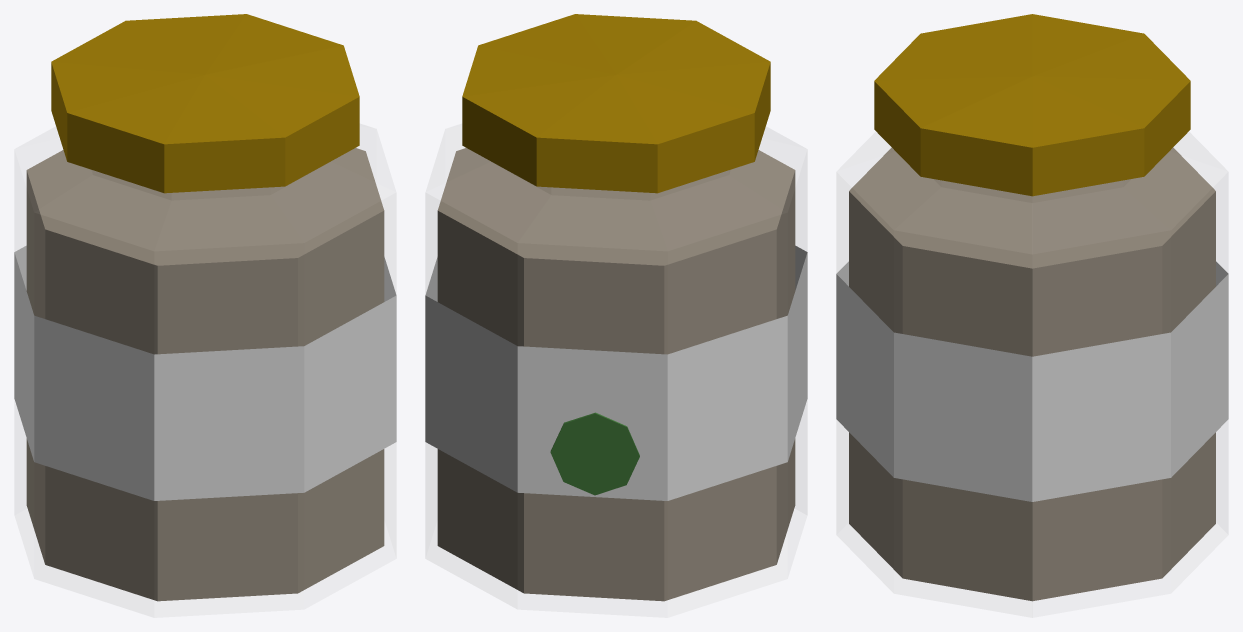
File: Quinoa.fbx
The picture shows the model from 3 angles, left to right: view 1: azimuth 30°, elevation 25°; view 2: azimuth 150°, elevation 25°; view 3: azimuth 270°, elevation 25°; orthographic projection.
Parts seen in each view (by area): view 1: pCylinder9; view 2: pCylinder9; view 3: pCylinder9.
Part boxes in pixels (x1,y1,x2,y2): pCylinder9: (14, 14, 396, 617); pCylinder9: (425, 14, 807, 617); pCylinder9: (836, 14, 1228, 617).
Bounding box in the file's own units: 2 × 2.58 × 2.
